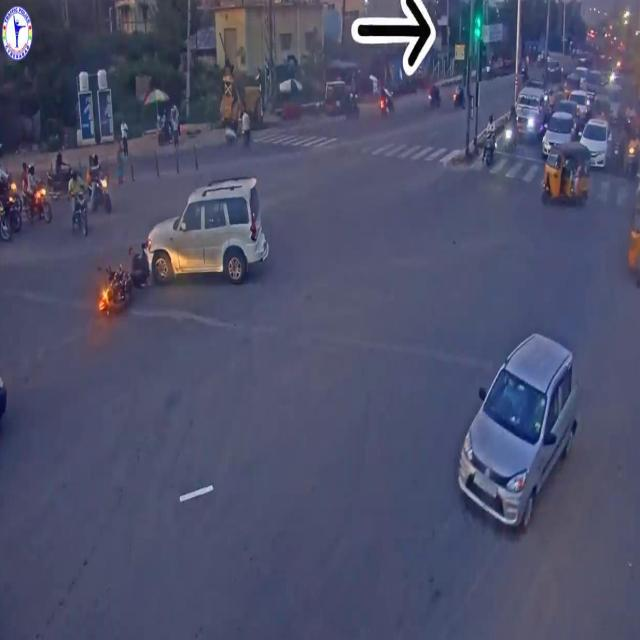accident: (92, 171, 274, 322)
non_accident: (483, 86, 640, 215), (0, 153, 54, 250), (73, 144, 115, 240)
